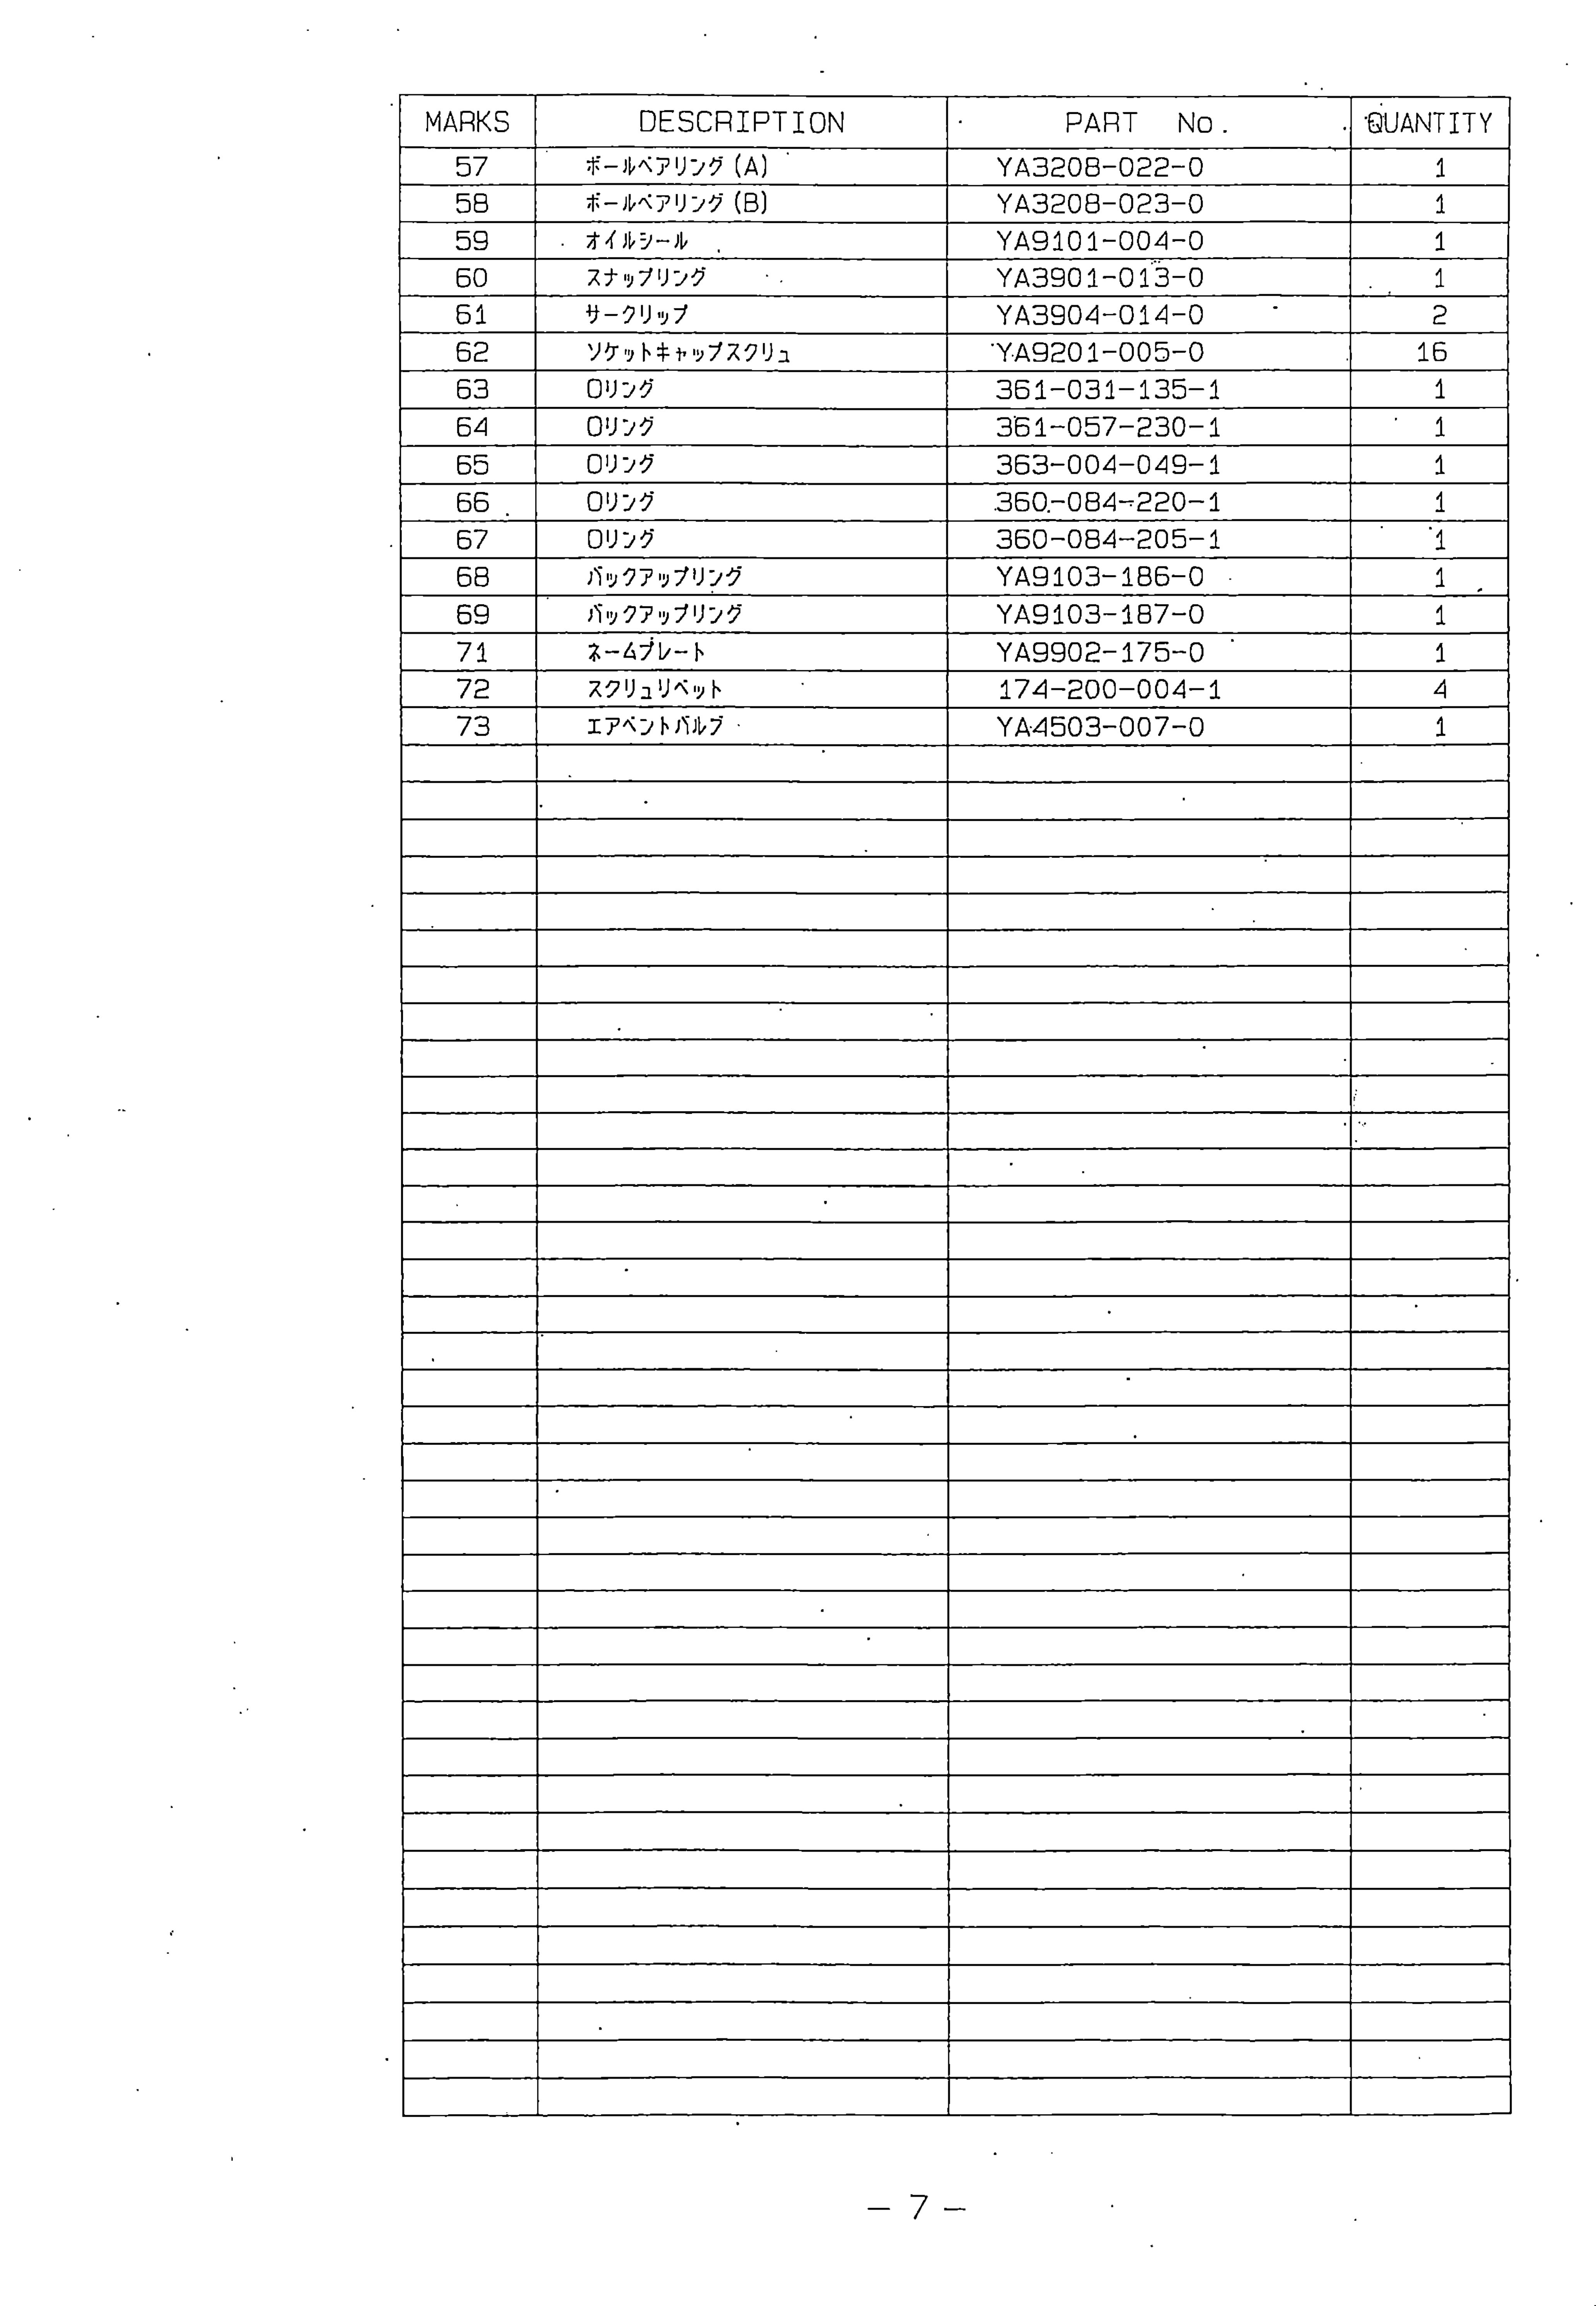Table: (387, 79, 1542, 2145)
